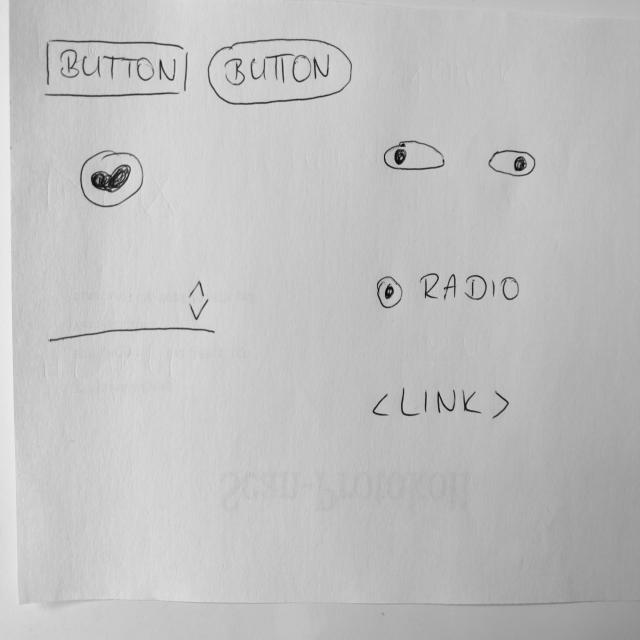button: (207, 37, 354, 109), (44, 36, 190, 101)
icon-button: (79, 148, 147, 213)
link: (372, 385, 513, 423)
number-input: (47, 278, 219, 346)
radio: (376, 271, 523, 312)
toggle: (383, 139, 448, 172), (488, 149, 538, 178)
